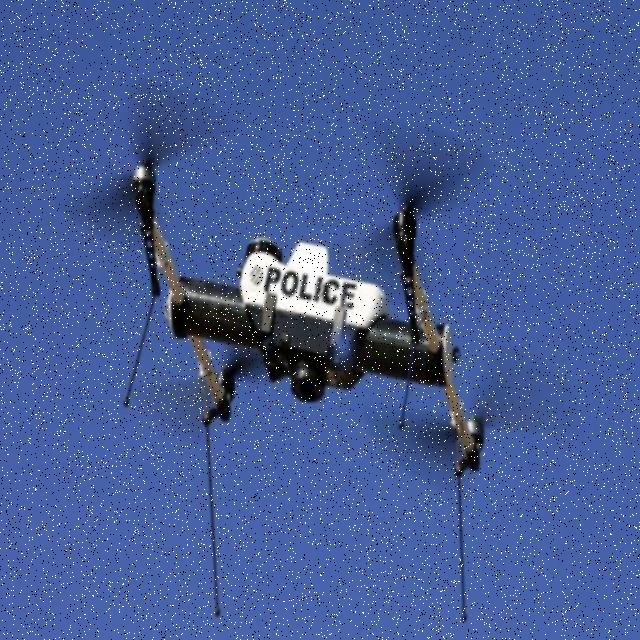UAV: (115, 156, 491, 480)
